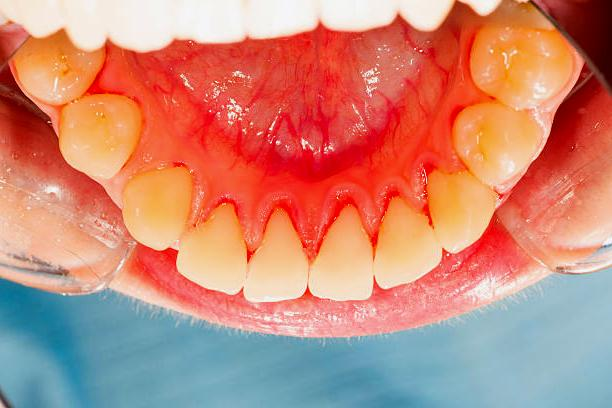Gingivitis: (321, 194, 393, 244), (261, 190, 305, 230)
